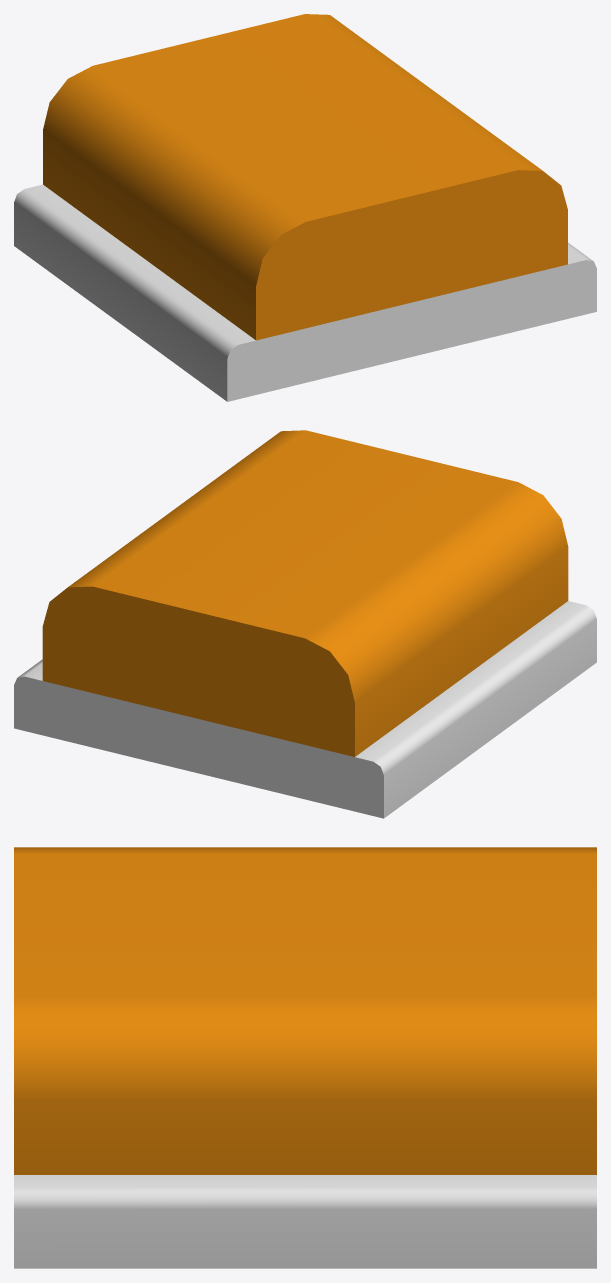
Rendered from Wall_Straight_Beveled.fbx.
3 views of the same model, one above another, from view 1: azimuth 30°, elevation 25°; view 2: azimuth 150°, elevation 25°; view 3: azimuth 270°, elevation 25° (orthographic). The views are drawn at different scales.
Visible parts, largest first — view 1: Wall_Straight_Beveled; view 2: Wall_Straight_Beveled; view 3: Wall_Straight_Beveled.
Part boxes in pixels (left/top/right/bottom): Wall_Straight_Beveled: left=14, top=14, right=596, bottom=401; Wall_Straight_Beveled: left=14, top=430, right=596, bottom=818; Wall_Straight_Beveled: left=14, top=847, right=596, bottom=1268.
Bounding box in the file's own units: 70.91 × 29.5 × 70.82.
